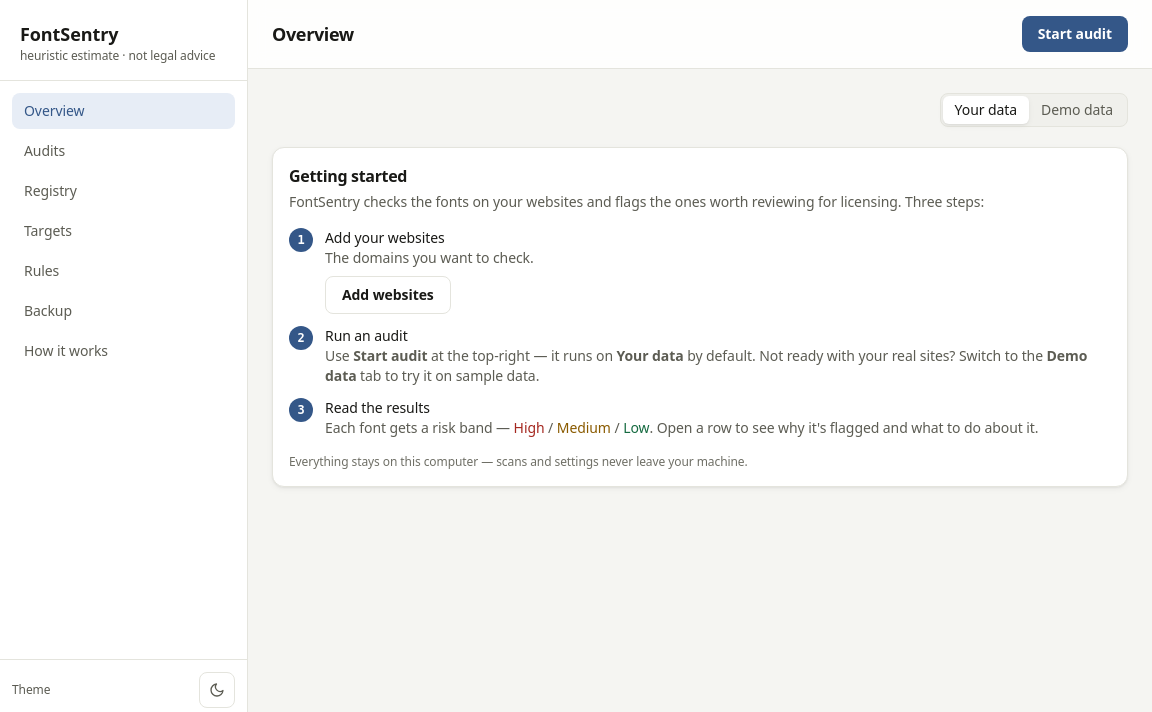
Test: App › runs an audit from the header and opens its result
The width and height of the screenshot is (1152, 712).
Click the button "Start audit" at (1075,34), box x1=1022 y1=16 x2=1128 y2=52
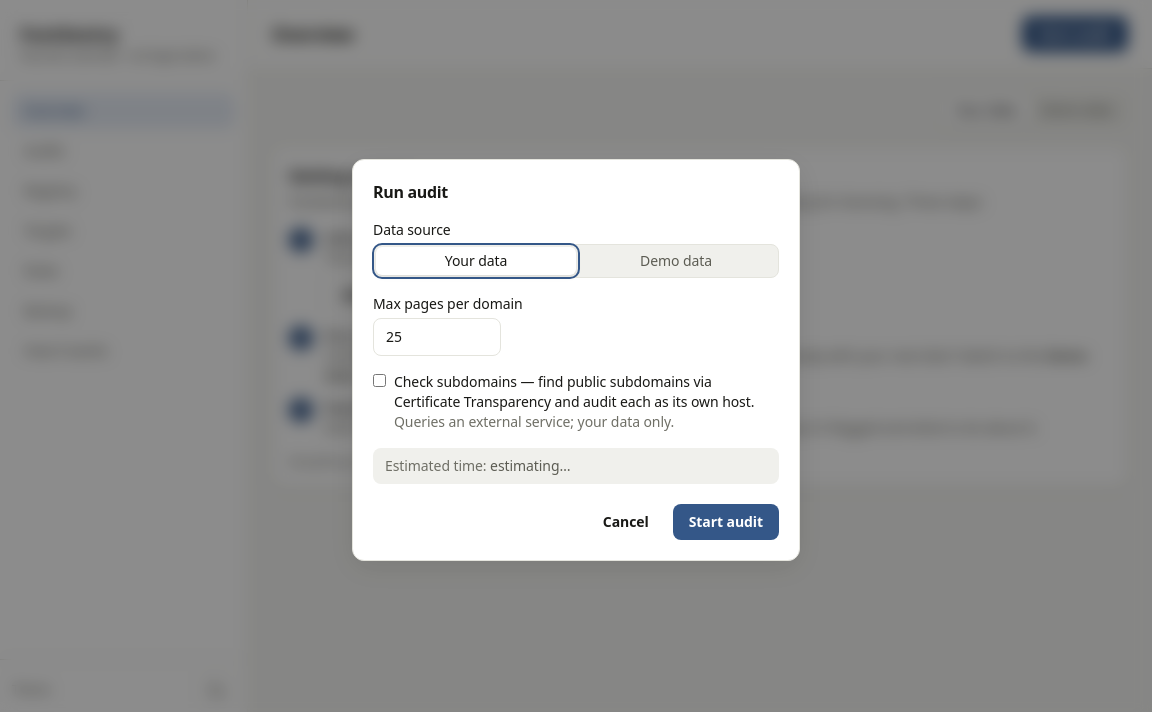
Click the button "Demo data" at (676,261), box x1=576 y1=247 x2=776 y2=275
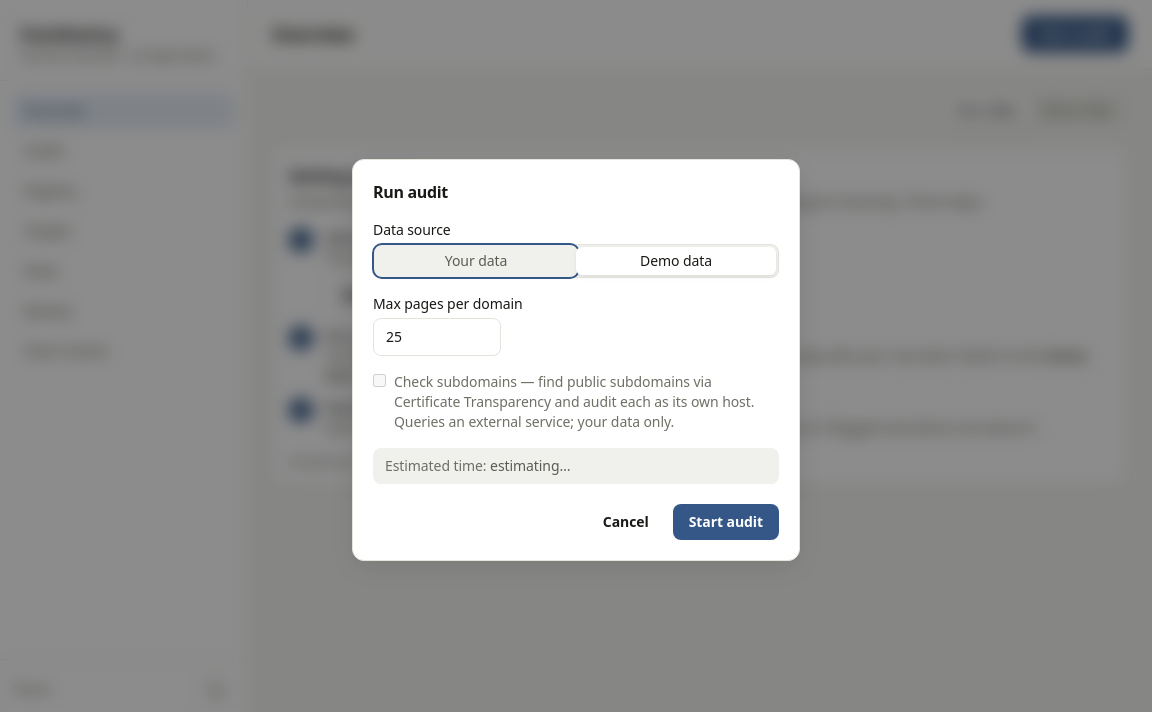
Click the button "Start audit" at (726,522), box x1=673 y1=504 x2=779 y2=540
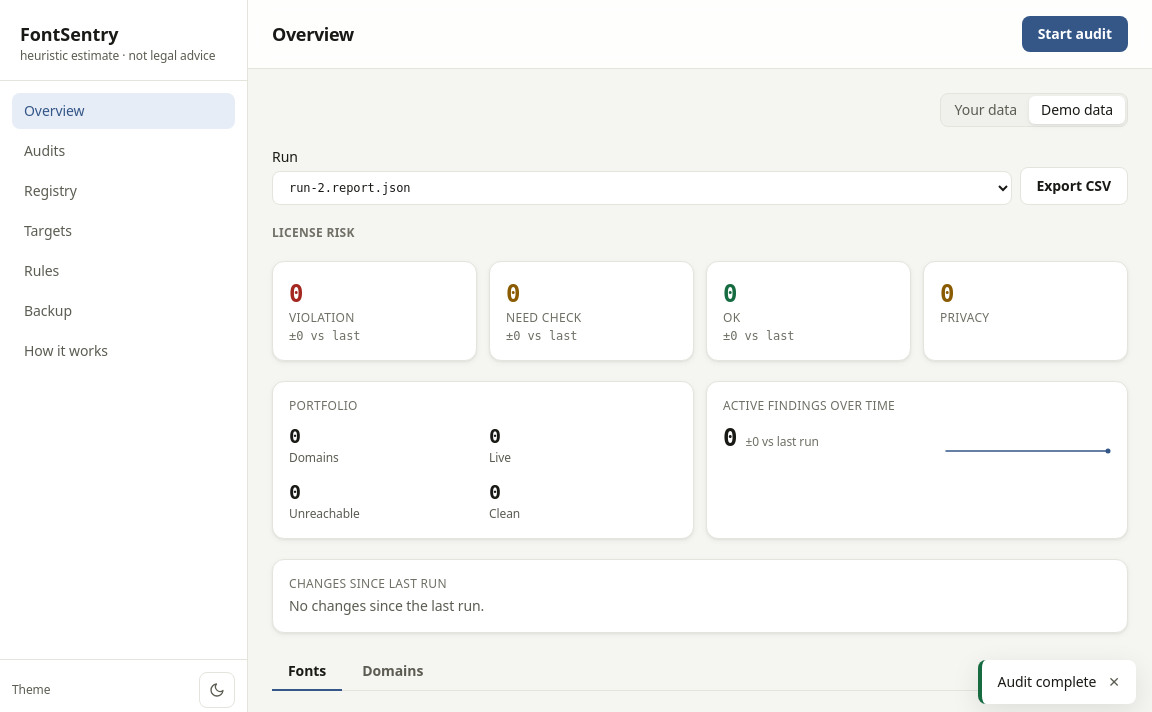
Expected: the text "Audit complete" is shown, x1=998 y1=672 x2=1096 y2=692
